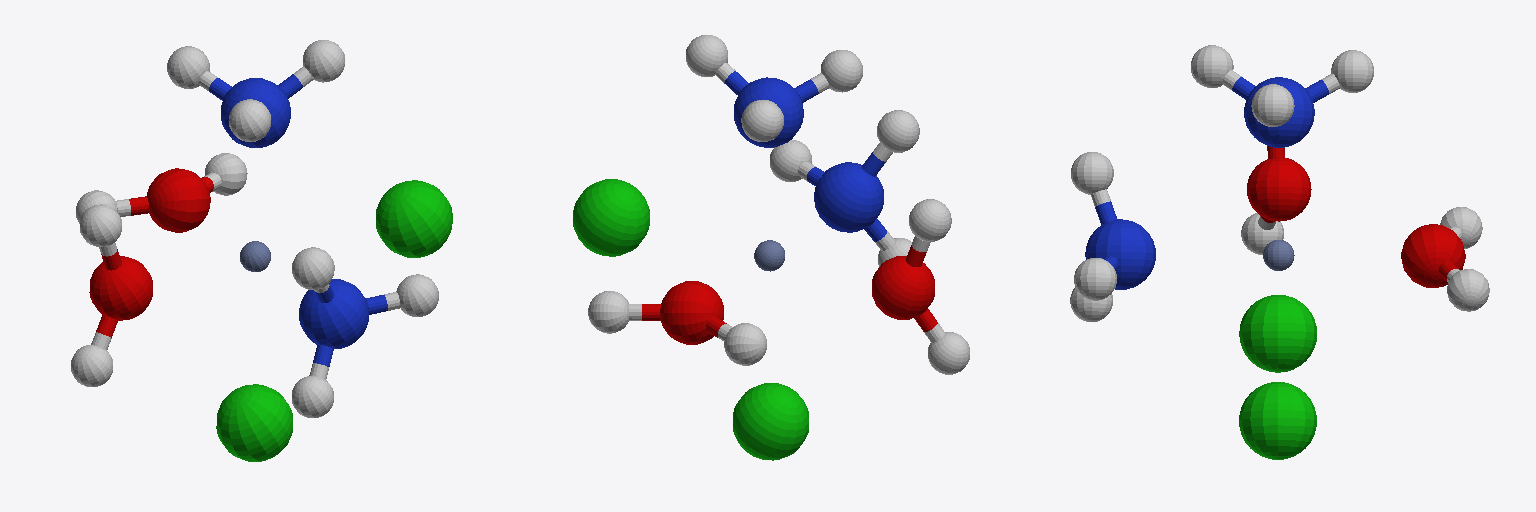
The model's file is l-cis-diacuodiclorodiamminhierro.obj.
3 views of the same model, side by side, from view 1: azimuth 30°, elevation 25°; view 2: azimuth 150°, elevation 25°; view 3: azimuth 270°, elevation 25° (orthographic).
Visible parts, largest first — view 1: ShapeSphere.009_ShapeSphere.010, ShapeSphere.008_ShapeSphere.009, ShapeSphere.001_ShapeSphere.002, ShapeSphere.005_ShapeSphere.006, ShapeSphere.014_ShapeSphere.015, ShapeSphere.010_ShapeSphere.011, ShapeSphere.002_ShapeSphere.003, ShapeSphere.015_ShapeSphere.016, ShapeSphere.012_ShapeSphere.013, ShapeSphere.003_ShapeSphere.004, ShapeSphere.016_ShapeSphere, ShapeSphere.004_ShapeSphere.005 (+5 smaller); view 2: ShapeSphere.009_ShapeSphere.010, ShapeSphere.008_ShapeSphere.009, ShapeSphere.001_ShapeSphere.002, ShapeSphere.014_ShapeSphere.015, ShapeSphere.005_ShapeSphere.006, ShapeSphere.010_ShapeSphere.011, ShapeSphere.007_ShapeSphere.008, ShapeSphere.015_ShapeSphere.016, ShapeSphere.002_ShapeSphere.003, ShapeSphere.011_ShapeSphere.012, ShapeSphere.006_ShapeSphere.007, ShapeSphere.013_ShapeSphere.014 (+4 smaller); view 3: ShapeSphere.008_ShapeSphere.009, ShapeSphere.009_ShapeSphere.010, ShapeSphere.014_ShapeSphere.015, ShapeSphere.001_ShapeSphere.002, ShapeSphere.005_ShapeSphere.006, ShapeSphere.010_ShapeSphere.011, ShapeSphere.004_ShapeSphere.005, ShapeSphere.013_ShapeSphere.014, ShapeSphere.006_ShapeSphere.007, ShapeSphere.002_ShapeSphere.003, ShapeSphere.011_ShapeSphere.012, ShapeSphere.012_ShapeSphere.013 (+4 smaller).
Part boxes in pixels (x1,y1,x2,y2): ShapeSphere.009_ShapeSphere.010: (376,180,452,257); ShapeSphere.008_ShapeSphere.009: (216,384,292,461); ShapeSphere.001_ShapeSphere.002: (299,279,368,348); ShapeSphere.005_ShapeSphere.006: (147,168,210,232); ShapeSphere.014_ShapeSphere.015: (89,256,152,320); ShapeSphere.010_ShapeSphere.011: (221,78,290,147); ShapeSphere.002_ShapeSphere.003: (292,247,334,289); ShapeSphere.015_ShapeSphere.016: (80,204,121,246); ShapeSphere.012_ShapeSphere.013: (229,99,270,141); ShapeSphere.003_ShapeSphere.004: (292,376,333,417); ShapeSphere.016_ShapeSphere: (71,345,112,386); ShapeSphere.004_ShapeSphere.005: (396,274,438,316); ShapeSphere.009_ShapeSphere.010: (573,179,649,256); ShapeSphere.008_ShapeSphere.009: (733,383,808,460); ShapeSphere.001_ShapeSphere.002: (814,162,883,232); ShapeSphere.014_ShapeSphere.015: (872,256,934,319); ShapeSphere.005_ShapeSphere.006: (660,281,723,344); ShapeSphere.010_ShapeSphere.011: (734,77,803,147); ShapeSphere.007_ShapeSphere.008: (724,323,766,365); ShapeSphere.015_ShapeSphere.016: (909,199,951,241); ShapeSphere.002_ShapeSphere.003: (877,110,919,152); ShapeSphere.011_ShapeSphere.012: (741,100,783,141); ShapeSphere.006_ShapeSphere.007: (588,291,628,333); ShapeSphere.013_ShapeSphere.014: (686,35,727,76); ShapeSphere.008_ShapeSphere.009: (1239,382,1316,459); ShapeSphere.009_ShapeSphere.010: (1239,295,1316,372); ShapeSphere.014_ShapeSphere.015: (1247,158,1311,221); ShapeSphere.001_ShapeSphere.002: (1085,219,1155,289); ShapeSphere.005_ShapeSphere.006: (1401,224,1465,287); ShapeSphere.010_ShapeSphere.011: (1244,77,1314,147); ShapeSphere.004_ShapeSphere.005: (1074,258,1116,300); ShapeSphere.013_ShapeSphere.014: (1251,84,1294,126); ShapeSphere.006_ShapeSphere.007: (1447,269,1489,311); ShapeSphere.002_ShapeSphere.003: (1071,152,1113,194); ShapeSphere.011_ShapeSphere.012: (1331,50,1373,92); ShapeSphere.012_ShapeSphere.013: (1191,45,1233,87).
Bounding box in the file's own units: 5.11 × 5.14 × 4.86.